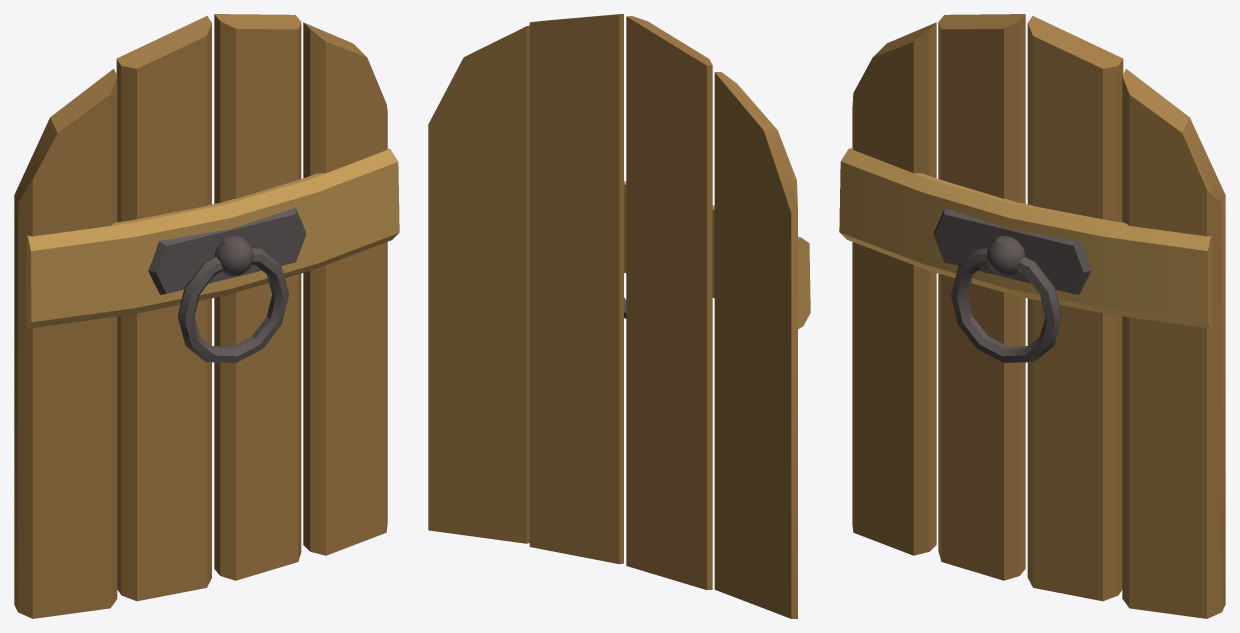
Rendered from SM_Door.fbx.
The picture shows the model from 3 angles, left to right: view 1: azimuth 30°, elevation 25°; view 2: azimuth 150°, elevation 25°; view 3: azimuth 330°, elevation 25°; orthographic projection.
Parts seen in each view (by area): view 1: SM_Door; view 2: SM_Door; view 3: SM_Door.
Boxes of the visible parts, <box> form: SM_Door: <box>14,14,399,618</box>; SM_Door: <box>428,14,810,618</box>; SM_Door: <box>839,14,1225,618</box>.
Size of the model in its own units: 2.5 by 3.63 by 0.537.
